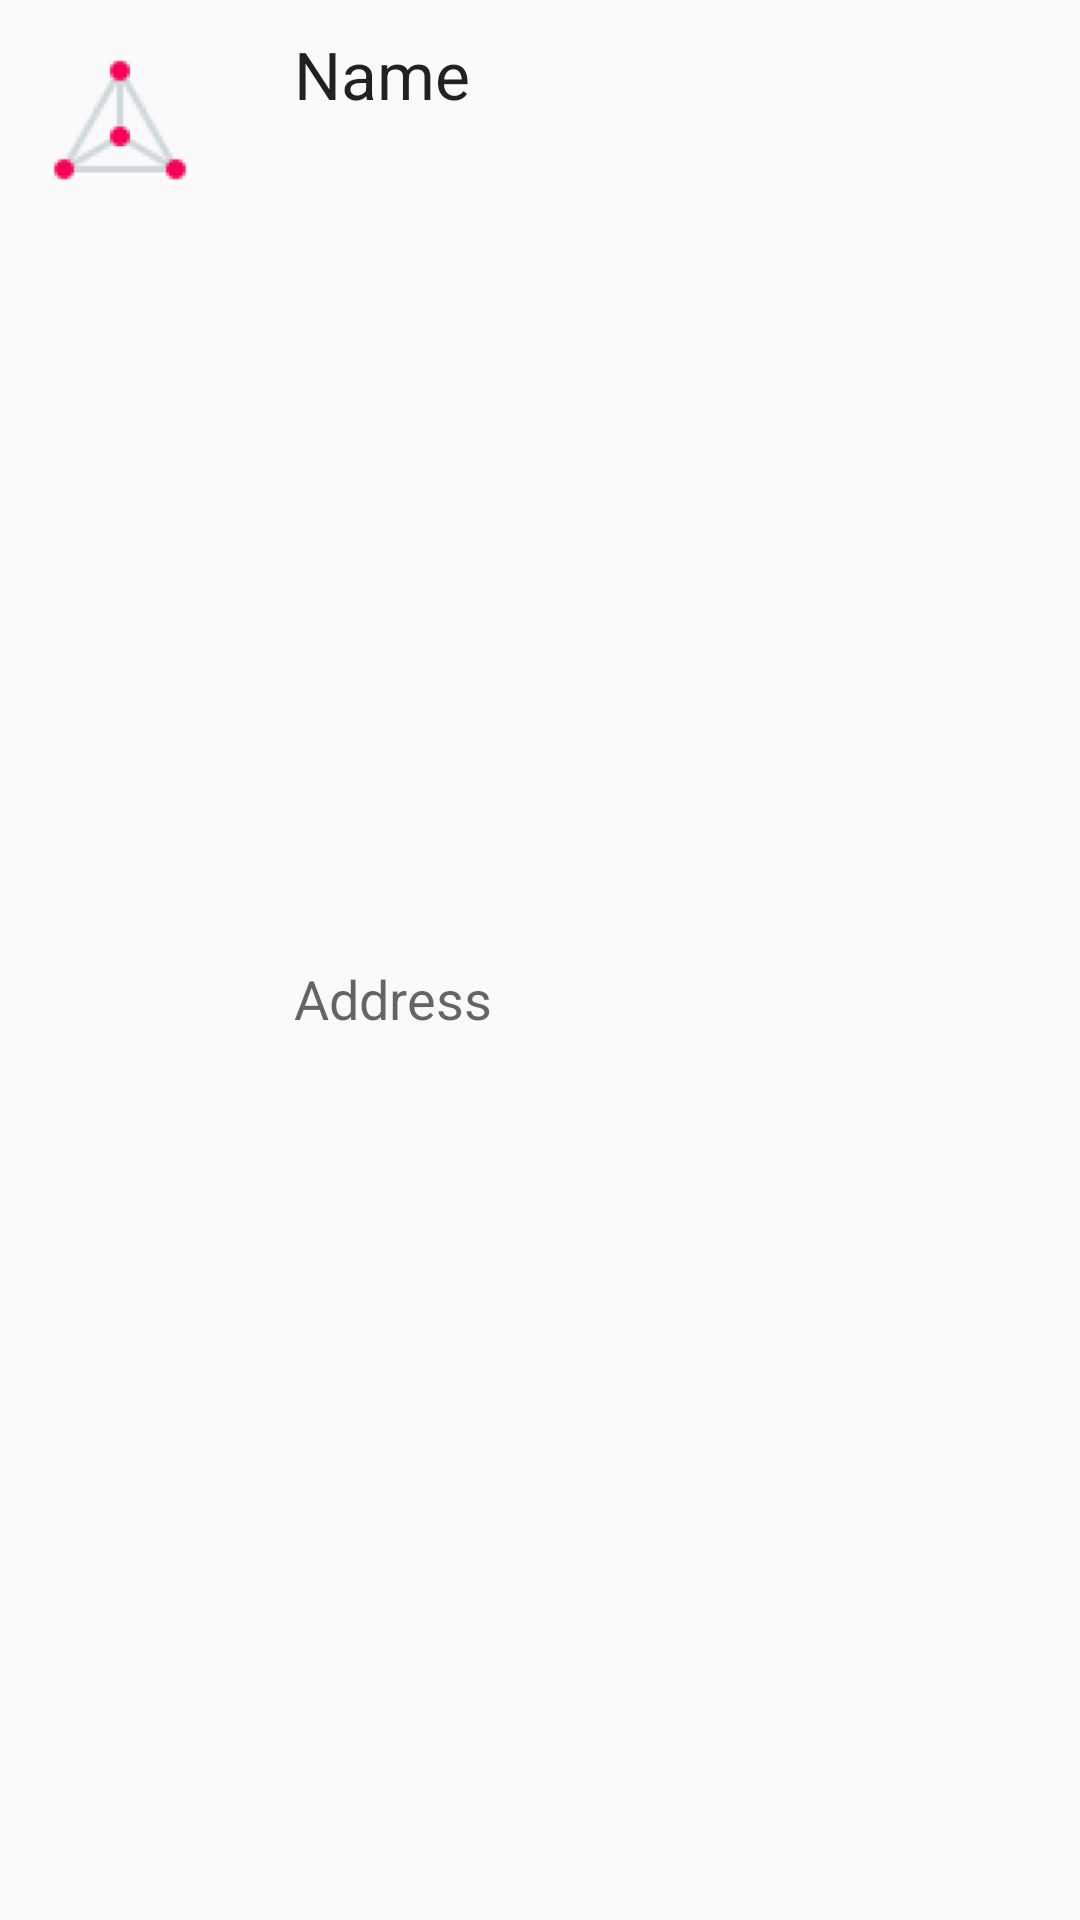

Where icons sit on this 1080*1920 app screen, as bbox(x1, y1, x2, y2):
graph clique: bbox(53, 60, 187, 180)
